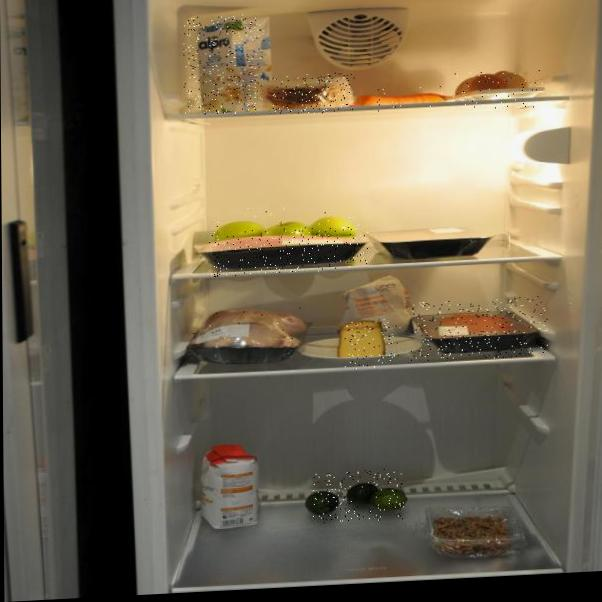apple: (206, 202, 360, 252)
bread: (273, 72, 356, 116)
carrots: (362, 84, 444, 115)
cheese: (344, 318, 401, 369)
chicken: (193, 297, 305, 364)
eggs: (451, 69, 544, 112)
lime: (312, 468, 404, 524)
meat: (410, 296, 548, 363), (211, 224, 368, 277), (380, 210, 486, 270)
milk: (183, 13, 265, 117)
